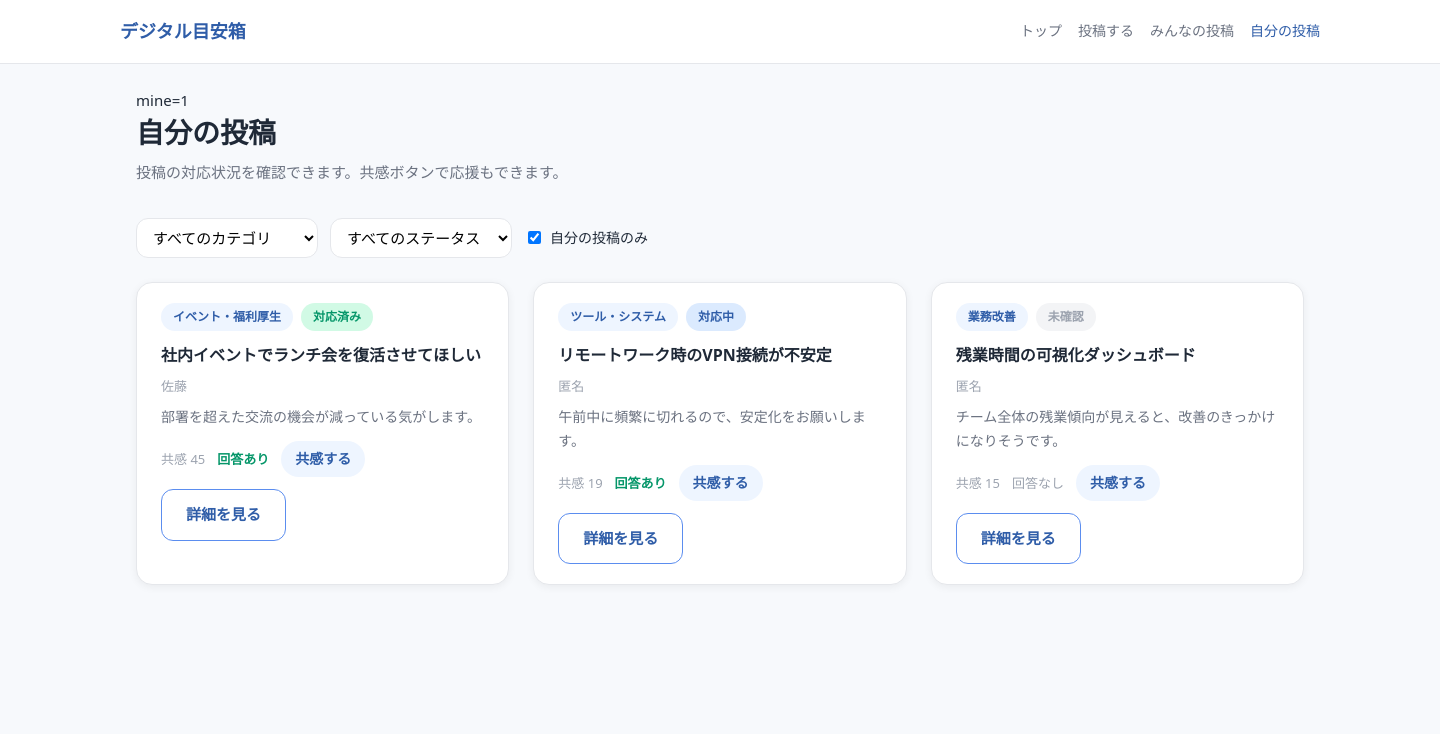
Test case: ListDetailPage › ナビで自分→みんなと切り替えても表示条件が戻る
Click the link with test id "nav-all-list" at (1192,31), box [1150,19,1234,43]
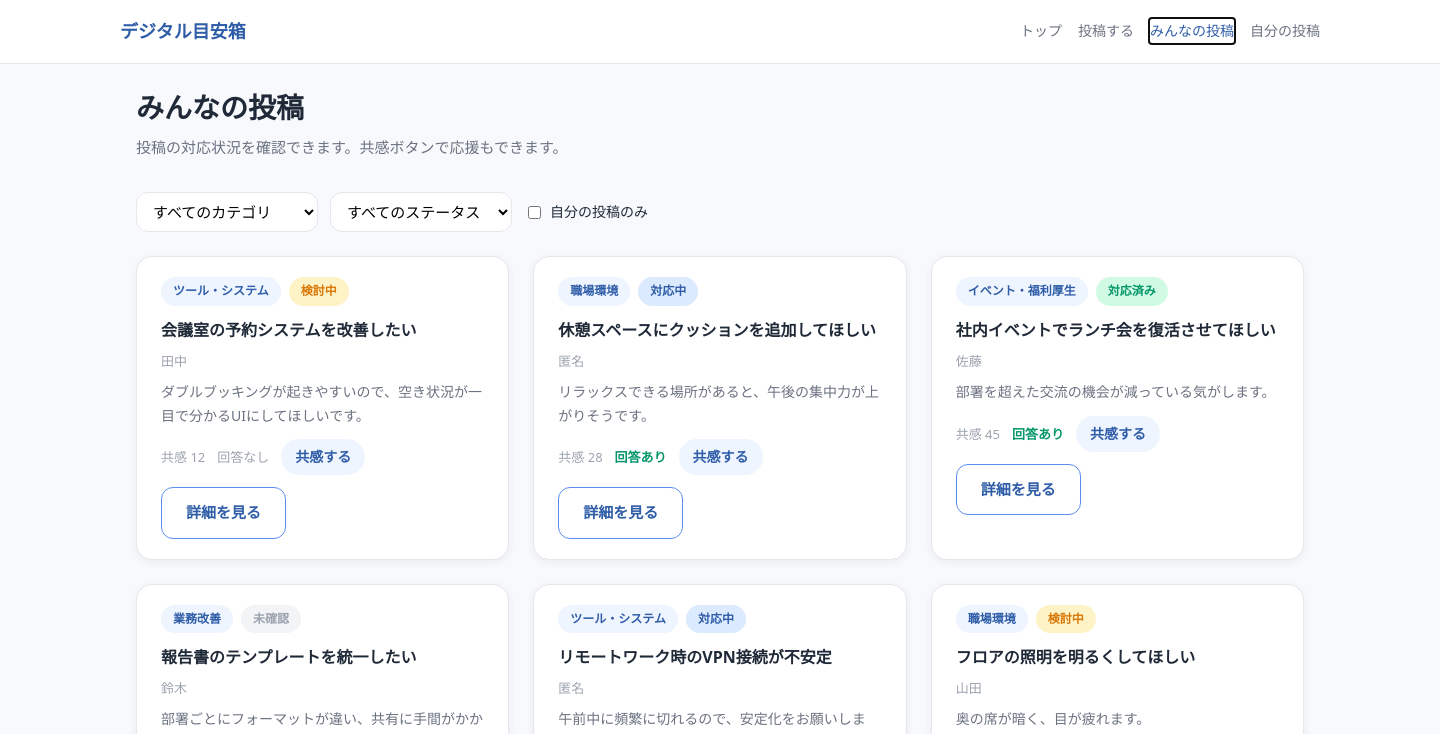
expect the heading "みんなの投稿" is shown: met, box [136,88,304,126]
Click the link with test id "nav-my-list" at (1285,31), box [1250,19,1320,43]
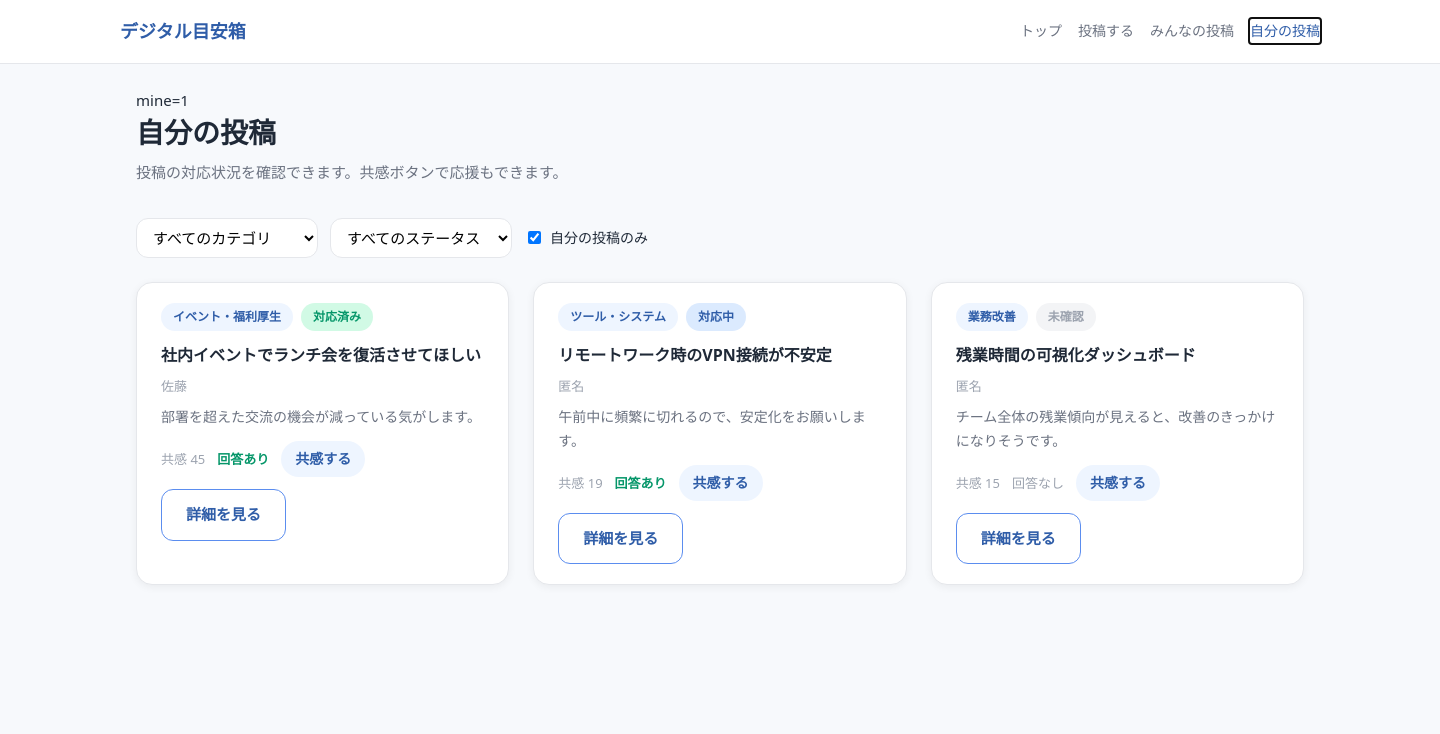
expect the heading "自分の投稿" is shown: met, box [136,113,276,151]
